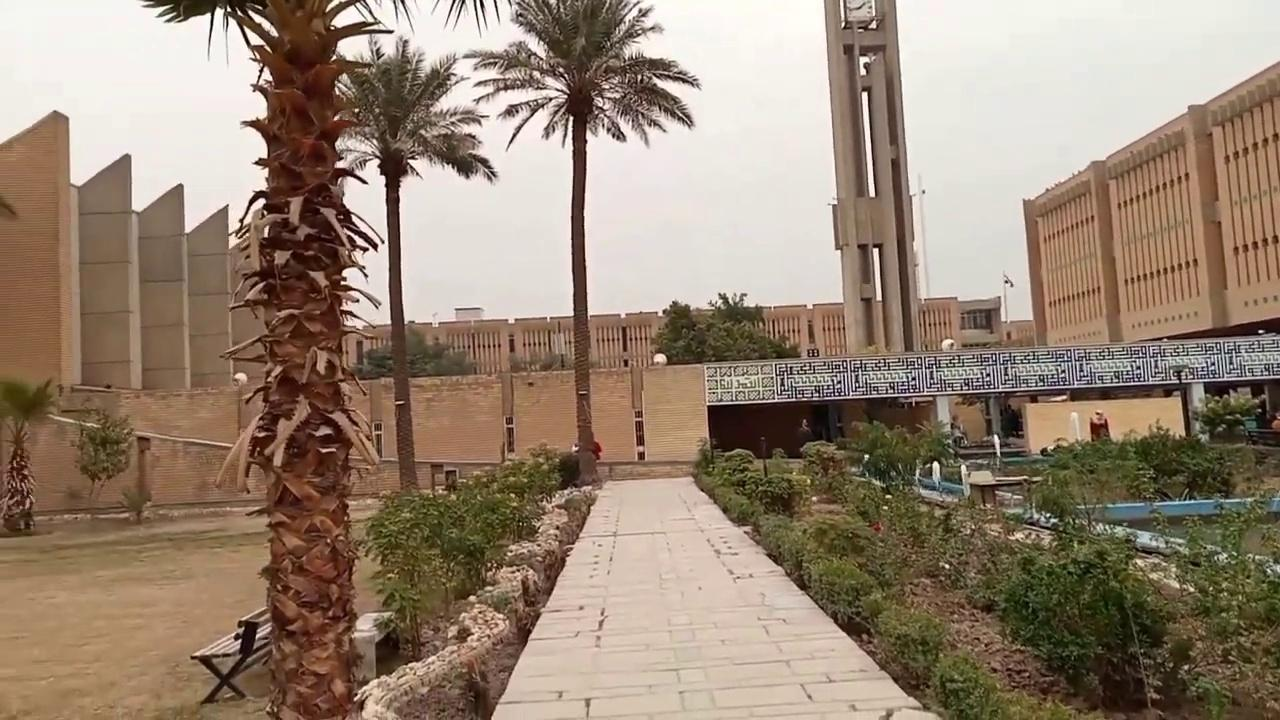fountain: (1018, 490, 1278, 565), (1073, 492, 1278, 526), (913, 458, 1041, 509), (913, 459, 968, 503)
person: (572, 428, 601, 487), (1001, 403, 1020, 438), (1089, 410, 1110, 441), (950, 413, 967, 446), (798, 418, 813, 441)
tree: (137, 0, 508, 718), (462, 0, 702, 483), (330, 34, 498, 494), (651, 290, 799, 364), (0, 375, 60, 531), (68, 403, 135, 512), (1191, 389, 1262, 444), (652, 298, 707, 364)
